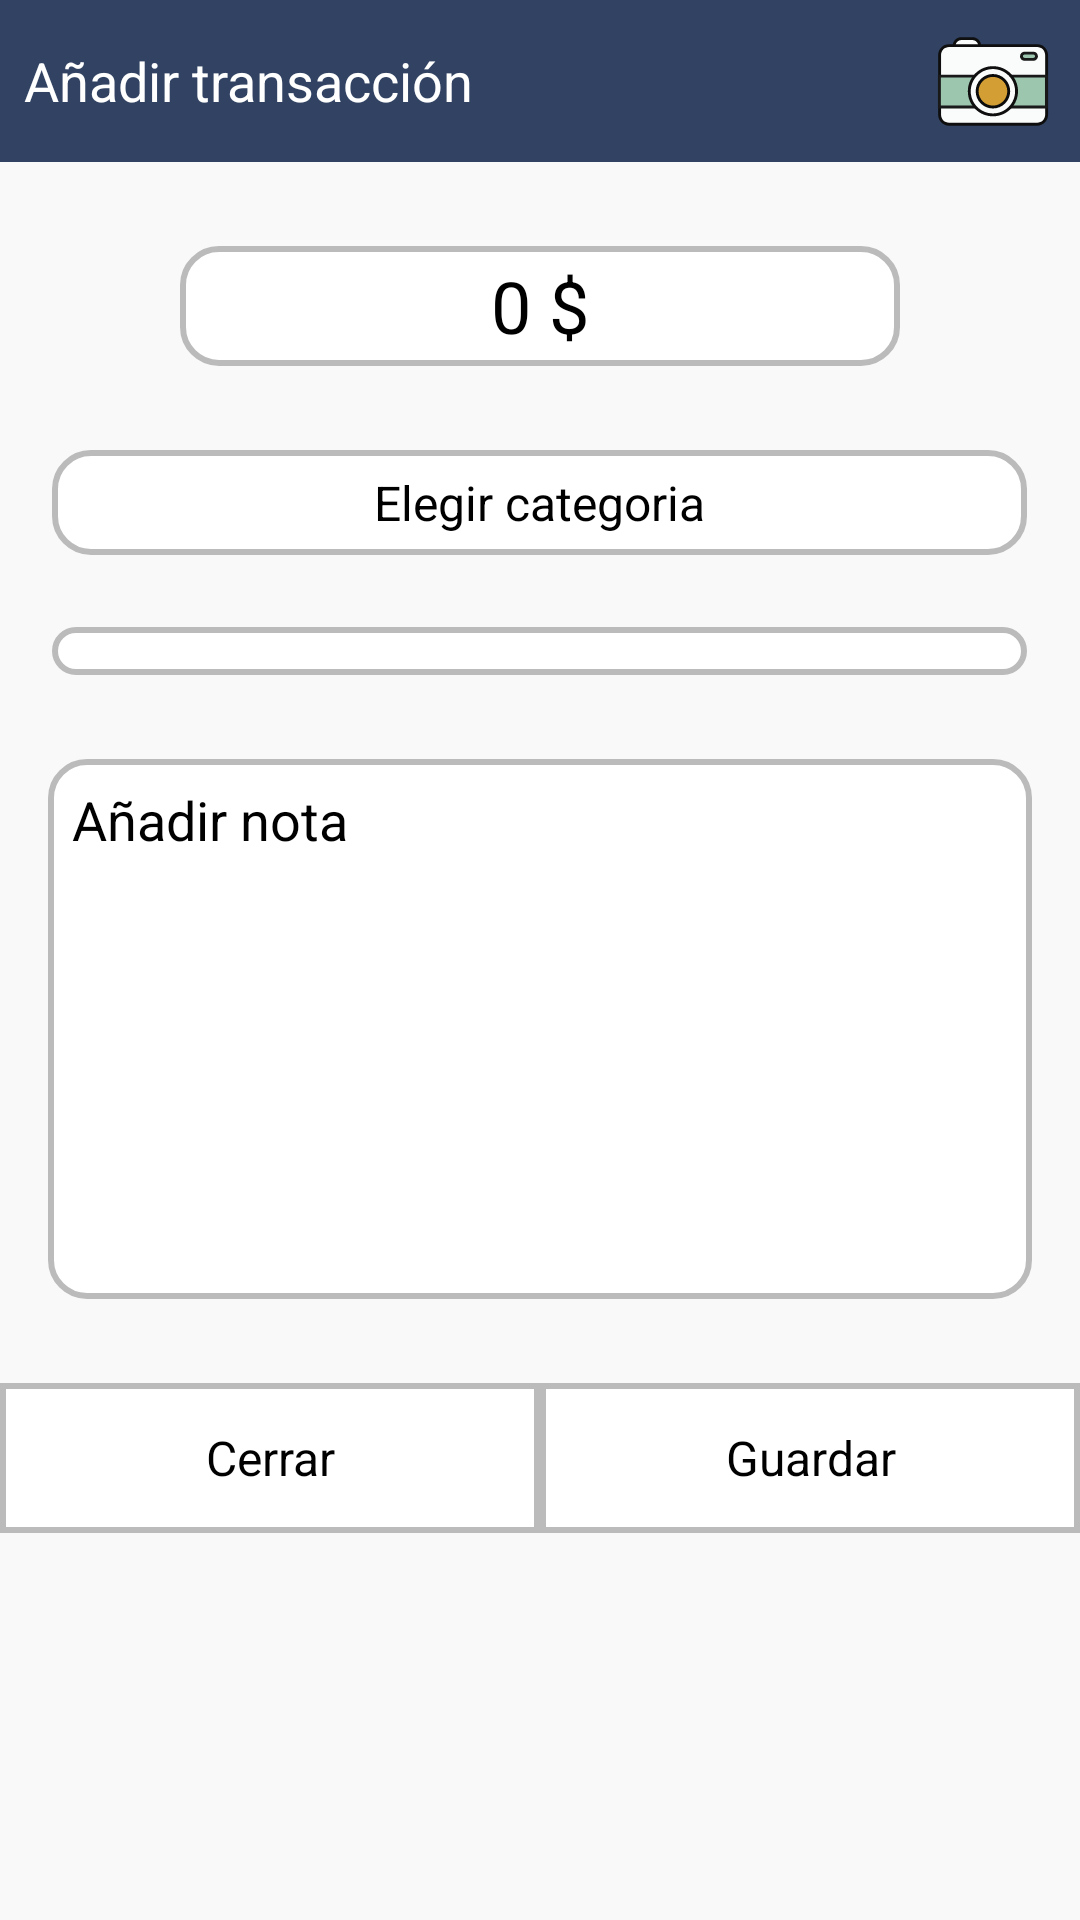

Where to tap for icons on this 1080w x 1920h app screen, as point (x, y):
camerahappy: point (993, 81)
